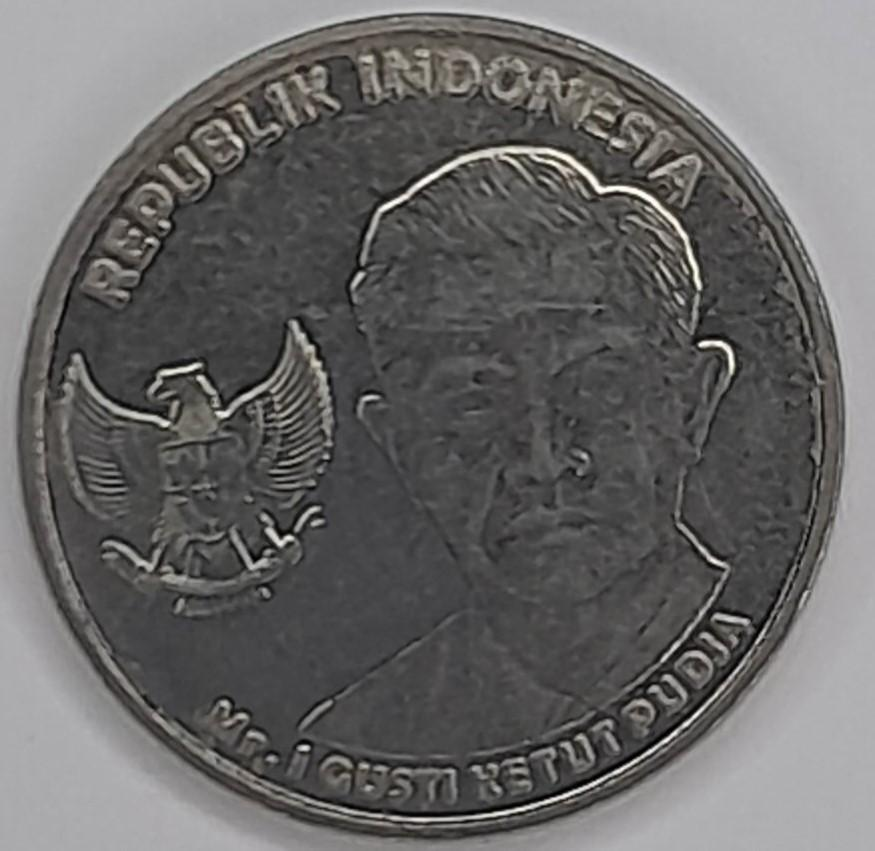coin_1000_e2016: (15, 17, 863, 851)
